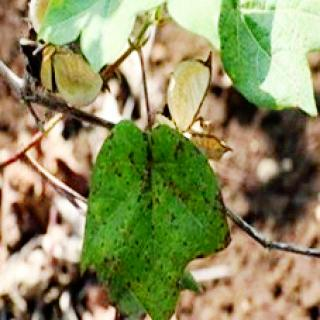leaf spot: (82, 121, 232, 320)
